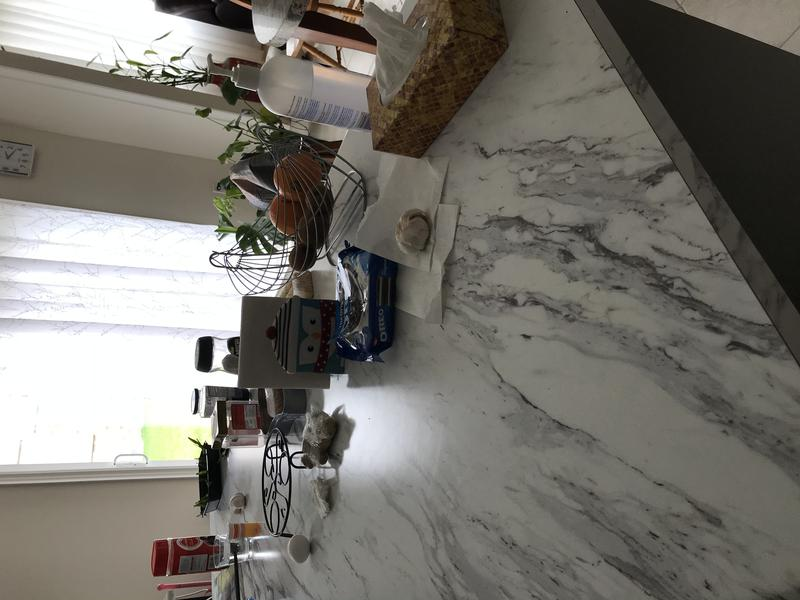garlic: (393, 205, 438, 260)
